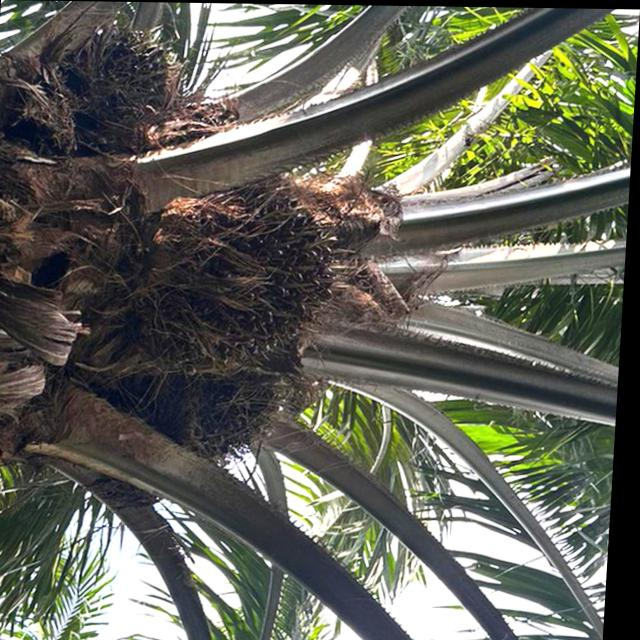unripe: (110, 160, 366, 391), (11, 14, 204, 180), (100, 369, 293, 516)
